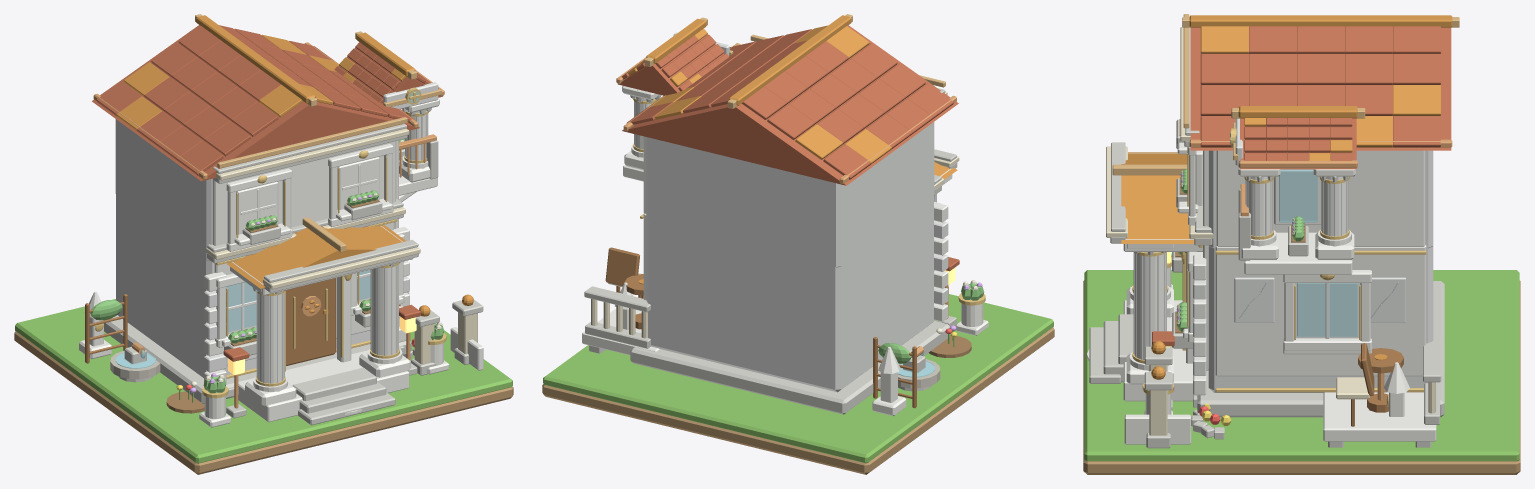
Rendered from villa_l04_active_LOD0.glb.
The picture shows the model from 3 angles, left to right: view 1: azimuth 30°, elevation 25°; view 2: azimuth 150°, elevation 25°; view 3: azimuth 270°, elevation 25°; orthographic projection. The views are drawn at different scales.
Visible parts, largest first — view 1: villa_grass_tile, villa_l01_active_v2_marble_core, villa_l04_active_full_upper_shell, villa_earth_tile, villa_l04_active_full_upper_gable_roof, villa_l04_active_wide_portico_roof_gable_roof, villa_l04_active_upper_front_cladding, villa_l01_active_v2_entry_door, villa_l04_active_wide_porch, villa_l01_active_v2_base_stone_block_low_medium_foundation, villa_l04_active_wide_column_1_shaft, villa_l04_active_wide_column_-1_shaft (+50 smaller); view 2: villa_l01_active_v2_marble_core, villa_l04_active_full_upper_shell, villa_grass_tile, villa_l04_active_full_upper_gable_roof, villa_l01_active_v2_base_stone_block_low_medium_foundation, villa_earth_tile, villa_l04_active_full_upper_gold_ridge, villa_l04_active_balcony_gable_gable_roof, villa_l04_active_chair_back, villa_l04_active_full_upper_tile_-1_1_4, villa_l04_active_full_upper_tile_-1_2_4, villa_l04_active_full_upper_tile_-1_3_4 (+22 smaller); view 3: villa_grass_tile, villa_l01_active_v2_right_marble_cladding, villa_l04_active_upper_right_cladding, villa_earth_tile, villa_l04_active_wide_portico_roof_gable_roof, villa_l04_active_terrace_deck, villa_l01_active_v2_base_stone_block_low_medium_foundation, villa_l01_active_v2_marble_core, villa_l01_active_v2_side_window_frame, villa_l04_active_full_upper_gold_ridge, villa_l01_active_v2_side_window_glass, villa_l04_active_full_upper_gable_roof (+61 smaller).
Boxes of the visible parts, x1=… form: villa_grass_tile: x1=15, y1=299, x2=512, y2=463; villa_l01_active_v2_marble_core: x1=116, y1=191, x2=395, y2=377; villa_l04_active_full_upper_shell: x1=115, y1=119, x2=396, y2=260; villa_earth_tile: x1=14, y1=331, x2=513, y2=474; villa_l04_active_full_upper_gable_roof: x1=92, y1=25, x2=419, y2=181; villa_l04_active_wide_portico_roof_gable_roof: x1=227, y1=225, x2=406, y2=288; villa_l04_active_upper_front_cladding: x1=212, y1=141, x2=395, y2=245; villa_l01_active_v2_entry_door: x1=286, y1=278, x2=336, y2=365; villa_l04_active_wide_porch: x1=238, y1=350, x2=409, y2=422; villa_l01_active_v2_base_stone_block_low_medium_foundation: x1=104, y1=315, x2=411, y2=403; villa_l04_active_wide_column_1_shaft: x1=371, y1=265, x2=398, y2=355; villa_l04_active_wide_column_-1_shaft: x1=257, y1=293, x2=284, y2=383; villa_l01_active_v2_marble_core: x1=646, y1=195, x2=933, y2=392; villa_l04_active_full_upper_shell: x1=646, y1=122, x2=934, y2=267; villa_grass_tile: x1=543, y1=294, x2=1053, y2=463; villa_l04_active_full_upper_gable_roof: x1=622, y1=25, x2=958, y2=185; villa_l01_active_v2_base_stone_block_low_medium_foundation: x1=630, y1=321, x2=949, y2=414; villa_earth_tile: x1=542, y1=327, x2=1054, y2=474; villa_l04_active_full_upper_gold_ridge: x1=729, y1=15, x2=851, y2=105; villa_l04_active_balcony_gable_gable_roof: x1=618, y1=34, x2=723, y2=95; villa_l04_active_chair_back: x1=605, y1=247, x2=639, y2=285; villa_l04_active_full_upper_tile_-1_1_4: x1=767, y1=104, x2=814, y2=139; villa_l04_active_full_upper_tile_-1_2_4: x1=795, y1=124, x2=842, y2=159; villa_l04_active_full_upper_tile_-1_3_4: x1=823, y1=144, x2=871, y2=179; villa_grass_tile: x1=1084, y1=270, x2=1519, y2=461; villa_l01_active_v2_right_marble_cladding: x1=1215, y1=245, x2=1426, y2=376; villa_l04_active_upper_right_cladding: x1=1216, y1=150, x2=1425, y2=246; villa_earth_tile: x1=1083, y1=280, x2=1520, y2=474; villa_l04_active_wide_portico_roof_gable_roof: x1=1121, y1=152, x2=1194, y2=243; villa_l04_active_terrace_deck: x1=1323, y1=392, x2=1436, y2=441; villa_l01_active_v2_base_stone_block_low_medium_foundation: x1=1197, y1=281, x2=1444, y2=417; villa_l01_active_v2_marble_core: x1=1208, y1=244, x2=1433, y2=392; villa_l01_active_v2_side_window_frame: x1=1294, y1=283, x2=1360, y2=338; villa_l04_active_full_upper_gold_ridge: x1=1189, y1=15, x2=1452, y2=27; villa_l01_active_v2_side_window_glass: x1=1297, y1=283, x2=1357, y2=336; villa_l04_active_full_upper_gable_roof: x1=1190, y1=27, x2=1451, y2=150.
Bounding box in the file's own units: 3.6 × 3.33 × 3.6.
